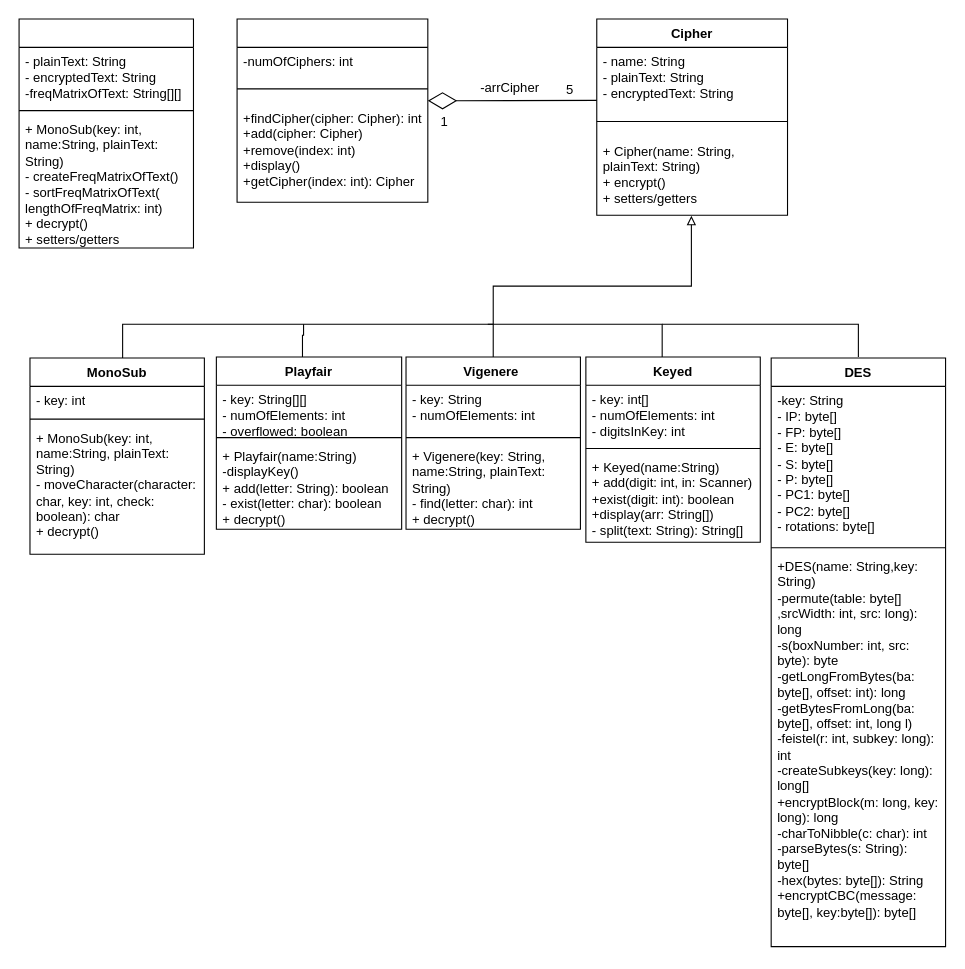
Image size: 965x969. Some labels were removed from this diagram. The box of each missing label's shape, as (x1, y1, x2, y2) in pixels:
CipherList: (236, 18, 428, 202)
FreqAnalysis: (18, 18, 193, 248)
